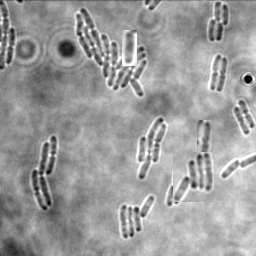Dividing: (197, 120, 212, 166), (122, 30, 137, 66), (238, 99, 255, 128), (209, 54, 222, 90), (217, 56, 228, 92), (7, 27, 17, 64)
Microcolony: (76, 7, 147, 98), (173, 152, 214, 202), (137, 117, 168, 180), (32, 135, 57, 211), (120, 195, 155, 238), (208, 1, 229, 42)
Rod: (233, 106, 251, 135), (222, 157, 240, 178), (167, 184, 177, 206)
